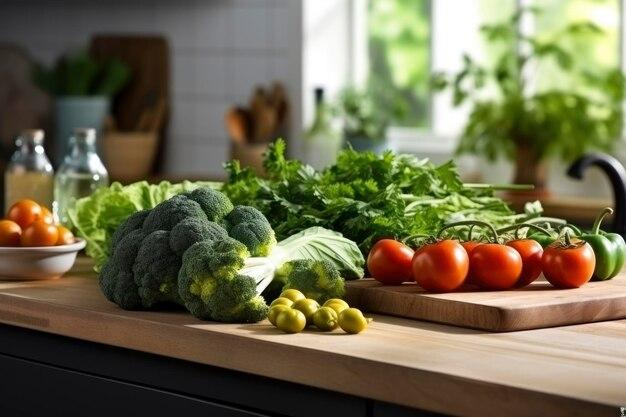brocolli: (106, 186, 272, 313)
tomato: (338, 195, 608, 300)
